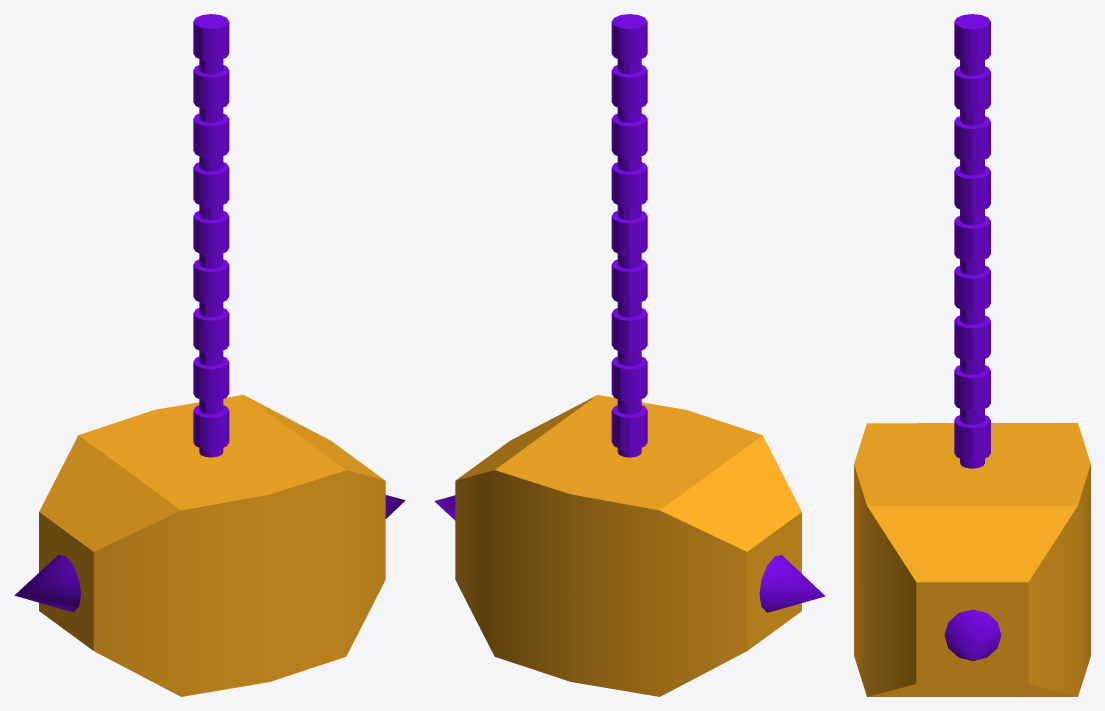
File: scene_kB8H5tofFm.glb
3 views of the same model, side by side, from view 1: azimuth 30°, elevation 25°; view 2: azimuth 150°, elevation 25°; view 3: azimuth 270°, elevation 25° (orthographic). The views are drawn at different scales.
Parts seen in each view (by area): view 1: Obstacle_Hanging_Hammer_01; view 2: Obstacle_Hanging_Hammer_01; view 3: Obstacle_Hanging_Hammer_01.
Part boxes in pixels (<box>): Obstacle_Hanging_Hammer_01: <box>14,14,405,696</box>; Obstacle_Hanging_Hammer_01: <box>434,14,825,696</box>; Obstacle_Hanging_Hammer_01: <box>854,14,1090,696</box>.
Size of the model in its own units: 2.12 by 3.19 by 1.08.
Materials: 1 (1 with a texture image).
